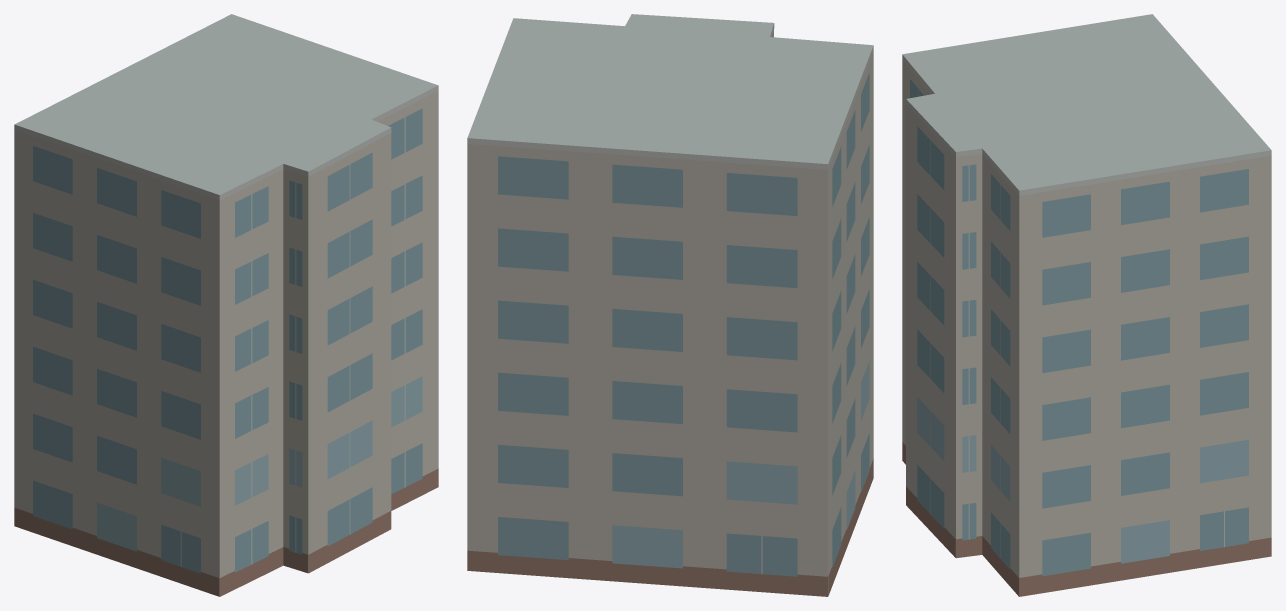
The model's file is survey-upis-32858622.glb.
The picture shows the model from 3 angles, left to right: view 1: azimuth 30°, elevation 25°; view 2: azimuth 150°, elevation 25°; view 3: azimuth 270°, elevation 25°; orthographic projection. The views are drawn at different scales.
Parts seen in each view (by area): view 1: survey-upis-32858622.tmp; view 2: survey-upis-32858622.tmp; view 3: survey-upis-32858622.tmp.
Part boxes in pixels (x1=…): survey-upis-32858622.tmp: x1=14, y1=14, x2=438, y2=596; survey-upis-32858622.tmp: x1=467, y1=14, x2=873, y2=596; survey-upis-32858622.tmp: x1=902, y1=14, x2=1271, y2=596.
Bounding box in the file's own units: 17.41 × 18.65 × 15.38.
